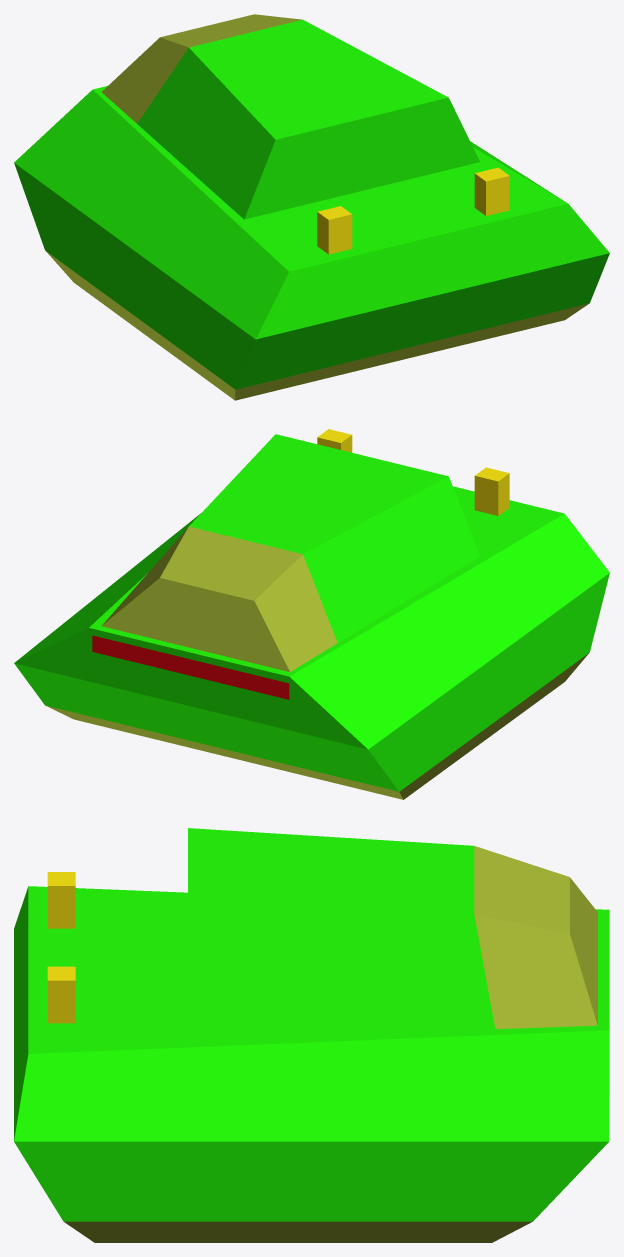
Rendered from arctic_platform.dae.
3 views of the same model, one above another, from view 1: azimuth 30°, elevation 25°; view 2: azimuth 150°, elevation 25°; view 3: azimuth 270°, elevation 25° (orthographic). The views are drawn at different scales.
Parts seen in each view (by area): view 1: platform, LIght_R, LIght_L; view 2: platform, Plane, LIght_R, LIght_L; view 3: platform, LIght_L, LIght_R.
Part boxes in pixels (bbox=[...]): platform: bbox=[14, 14, 609, 400]; LIght_R: bbox=[317, 206, 352, 254]; LIght_L: bbox=[474, 167, 509, 215]; platform: bbox=[14, 434, 609, 799]; Plane: bbox=[92, 635, 289, 699]; LIght_R: bbox=[474, 467, 509, 515]; LIght_L: bbox=[317, 429, 352, 452]; platform: bbox=[14, 828, 609, 1242]; LIght_L: bbox=[47, 966, 75, 1023]; LIght_R: bbox=[47, 872, 75, 928].
Size of the model in its own units: 0.9 by 1.06 by 0.5196.
